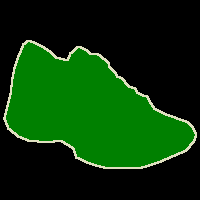shoe: (4, 40, 196, 168)
